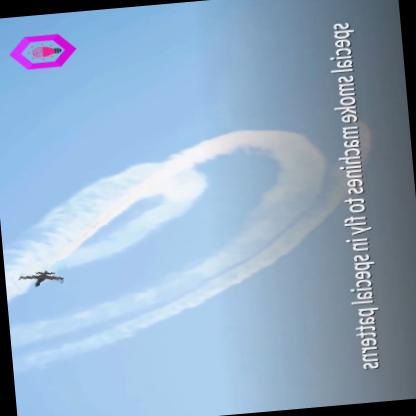plane: (14, 259, 72, 292)
